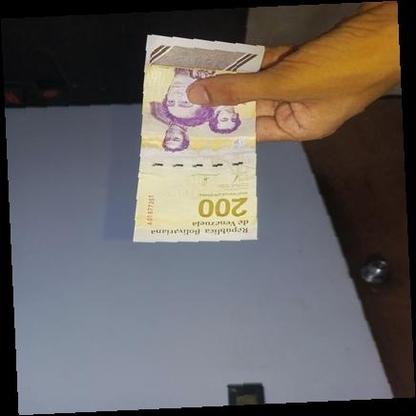two_hundred-front-vef: (132, 34, 266, 244)
